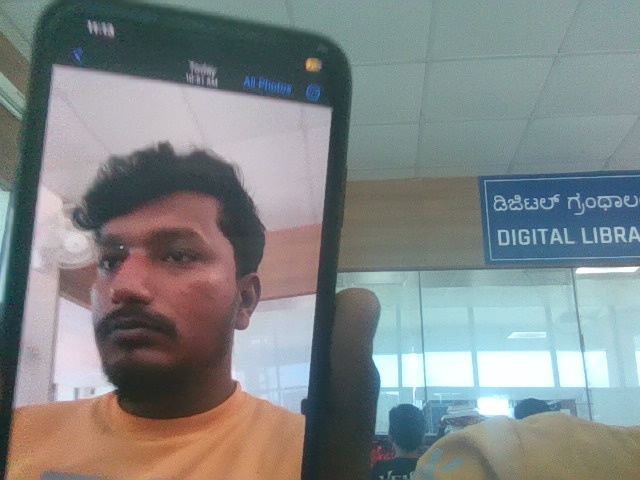fake: (66, 121, 266, 404)
